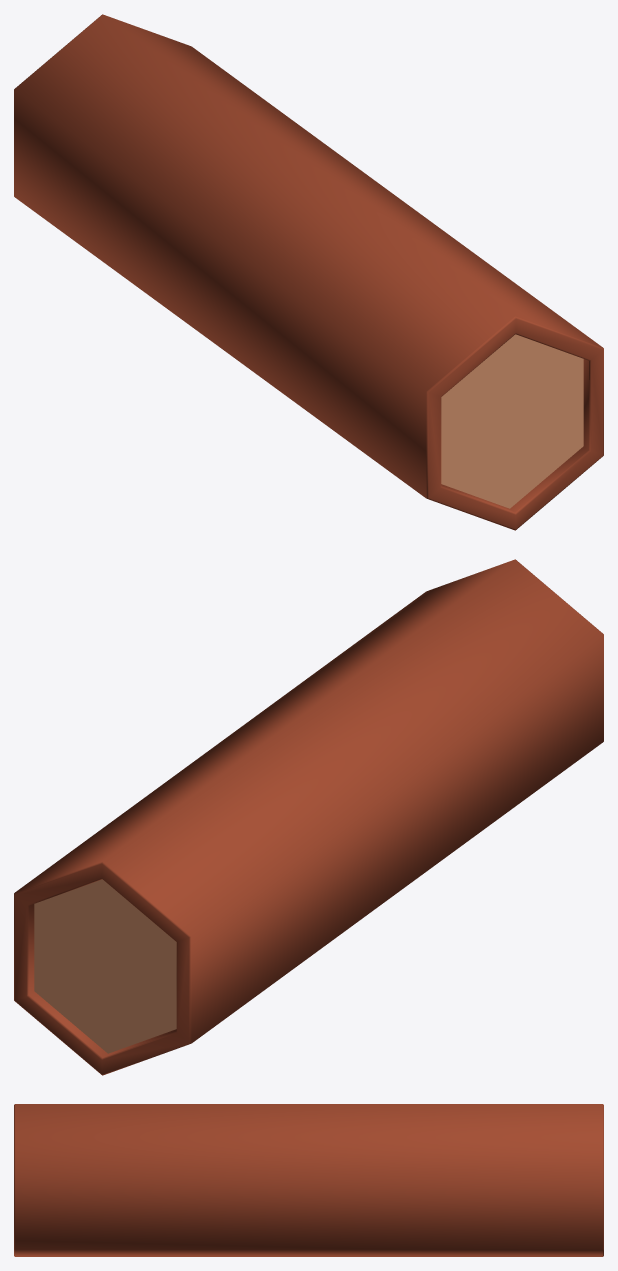
Rendered from wood.fbx.
3 renders of one model, top to bottom at view 1: azimuth 30°, elevation 25°; view 2: azimuth 150°, elevation 25°; view 3: azimuth 270°, elevation 25°, orthographic. The views are drawn at different scales.
Visible parts, largest first — view 1: Circle; view 2: Circle; view 3: Circle.
Boxes of the visible parts, x1,y1,x2,y2 form: Circle: [14, 14, 603, 530]; Circle: [14, 559, 603, 1075]; Circle: [14, 1104, 603, 1256].
Bounding box in the file's own units: 1.73 × 2 × 7.
